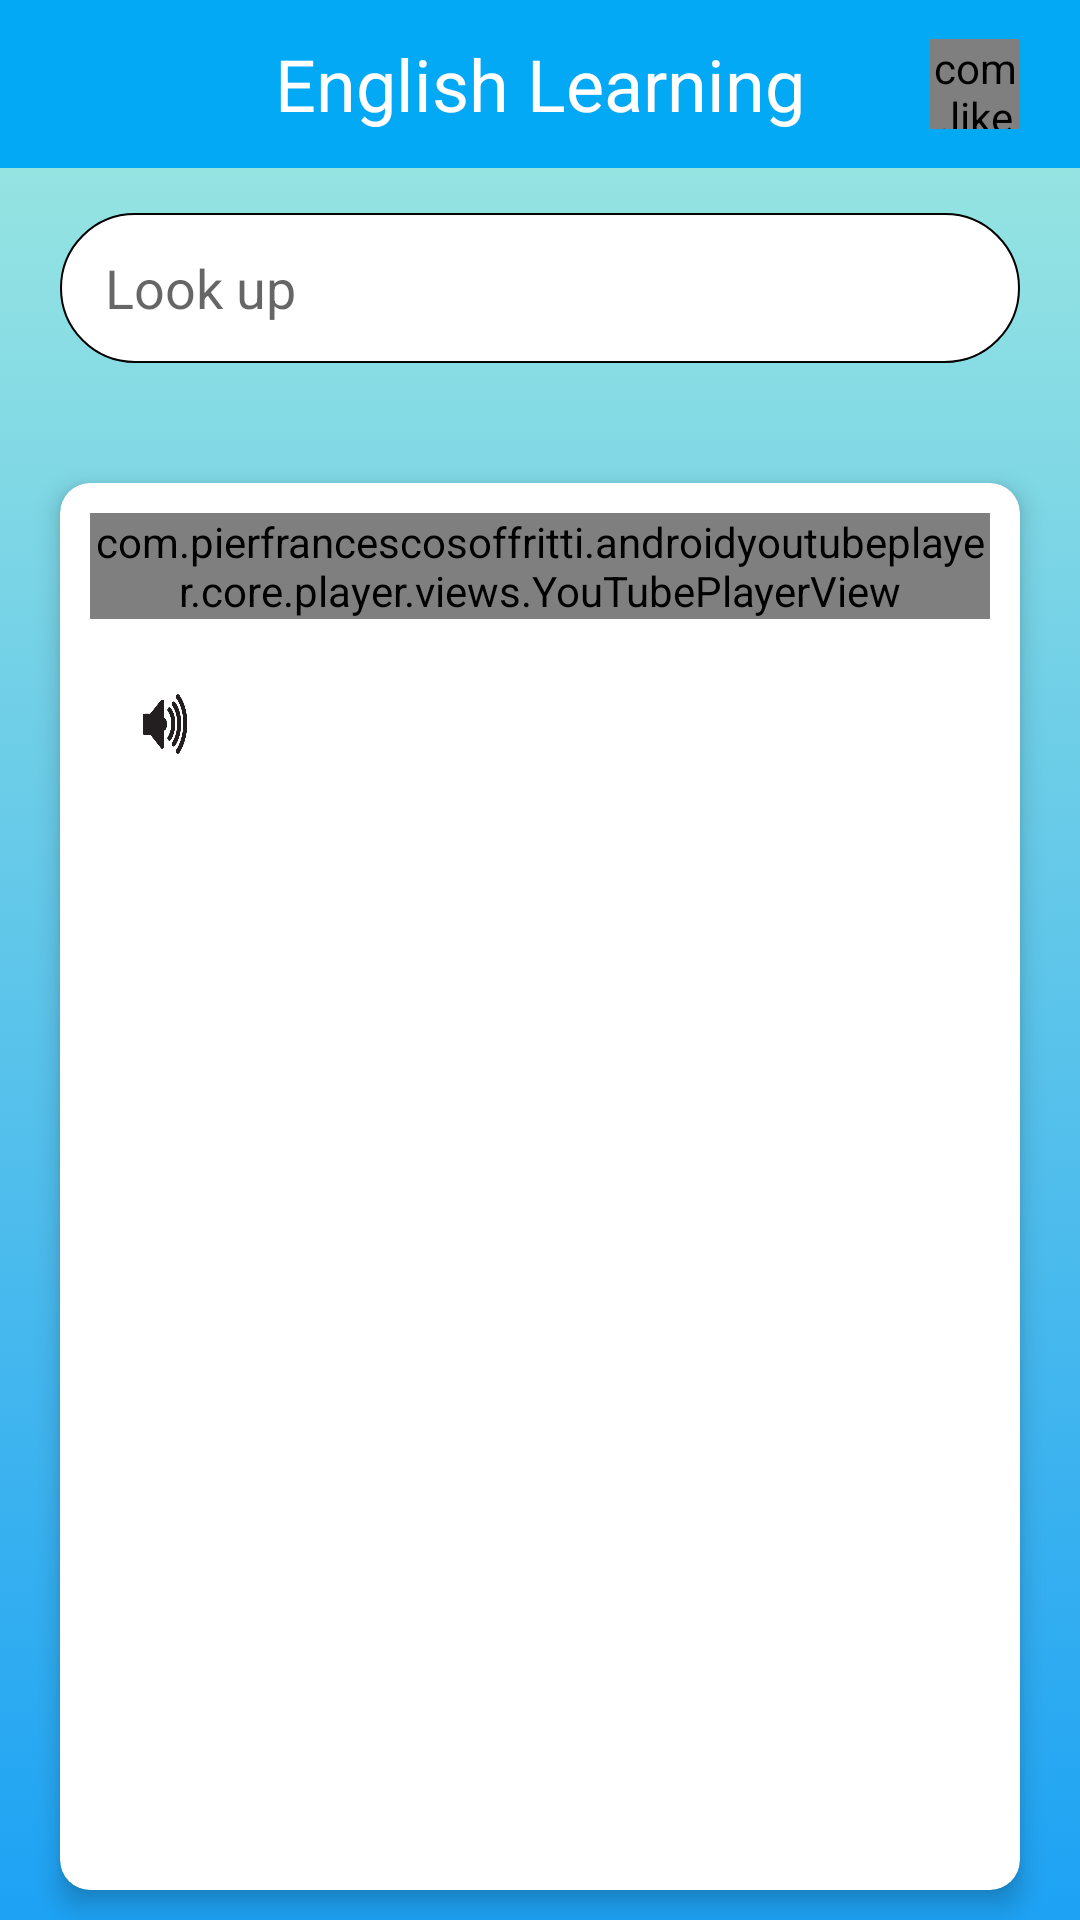

Icons on this 1080px×1920px Android screen, each with its box as (x1, y1, x2, y2):
volume: (143, 694, 187, 754)
